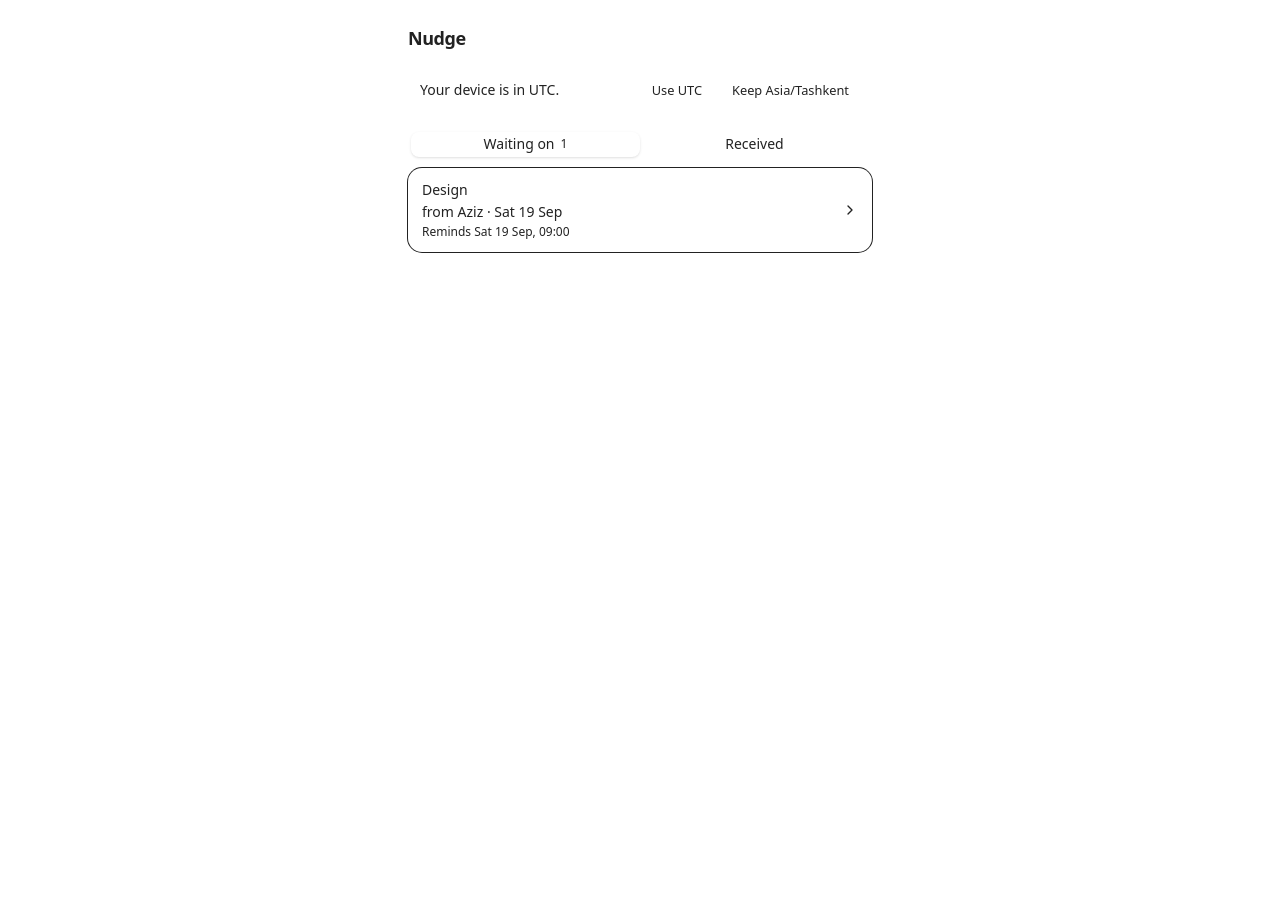
Test: marks an item received, closes the drawer and says so
Step 1. Click the button "Design from Aziz · Sat 19 Sep Reminds Sat 19 Sep, 09:00" → (445, 190), box [408,168,872,252]
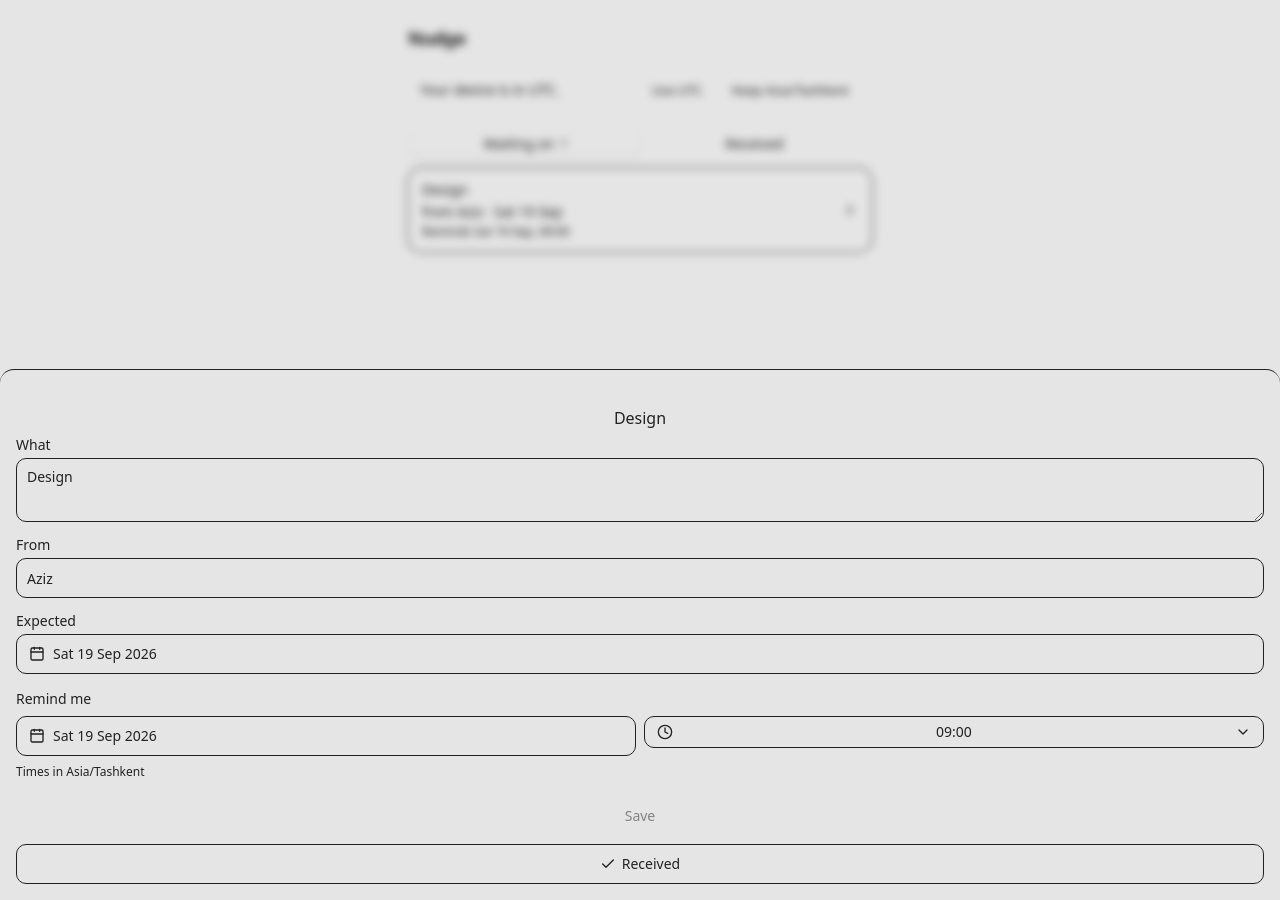
Step 2. Click the button "Received" → (640, 864), box [16,844,1264,884]
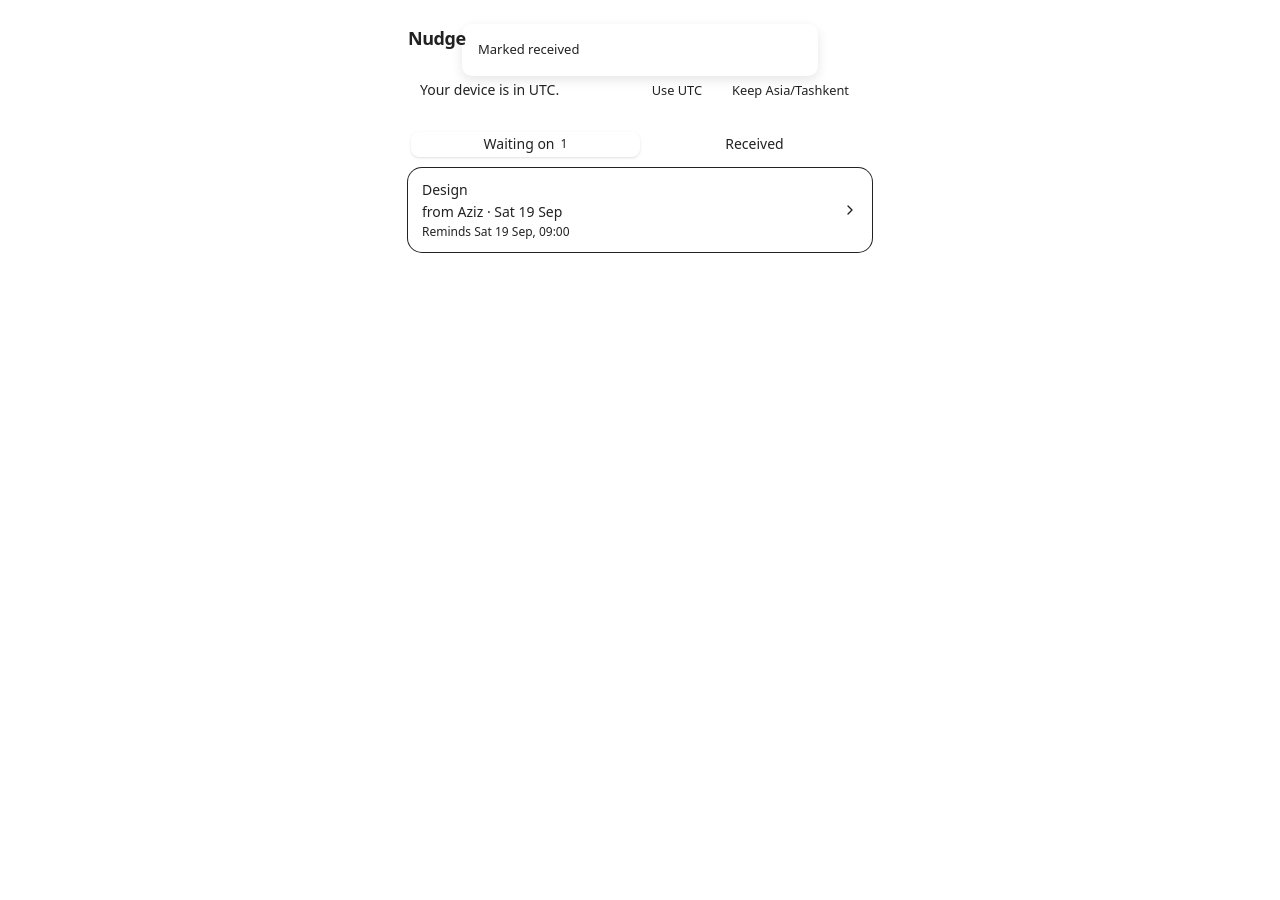
Expected: the dialog is gone
